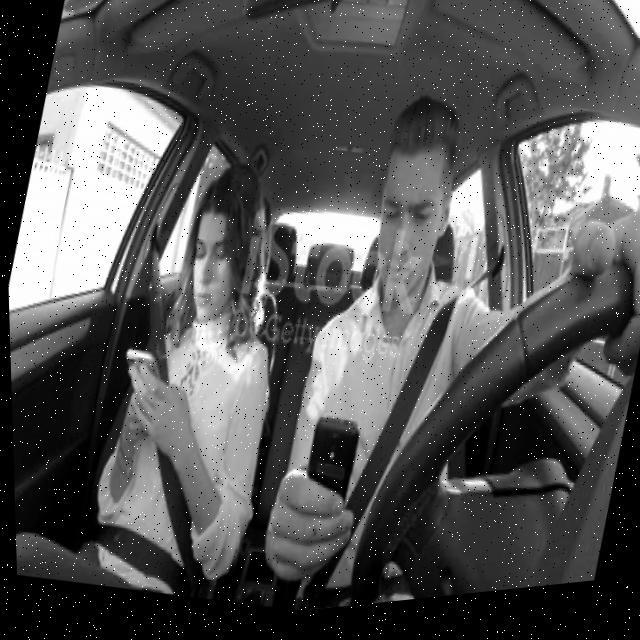PhoneCall: (282, 416, 364, 558), (112, 343, 163, 409)
